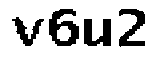2: (116, 5, 148, 52)
6: (45, 6, 80, 49)
u: (81, 16, 113, 52)
v: (9, 14, 43, 48)
